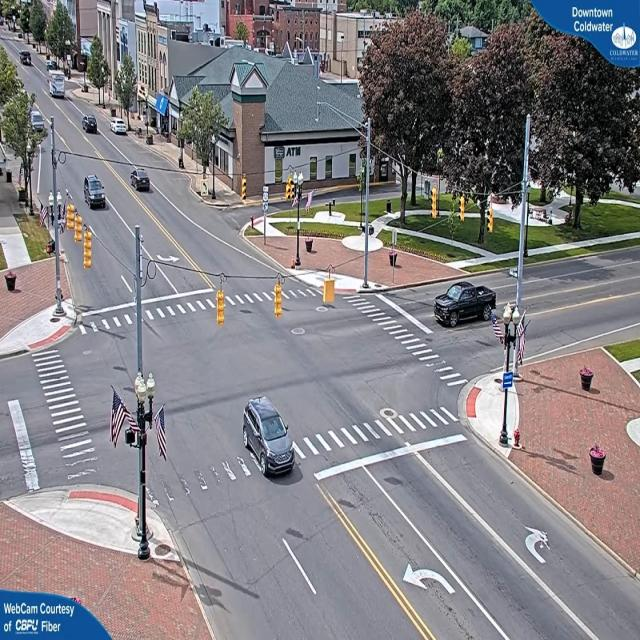car: (243, 400, 298, 478), (432, 279, 496, 328), (82, 176, 105, 210), (130, 169, 151, 192)
